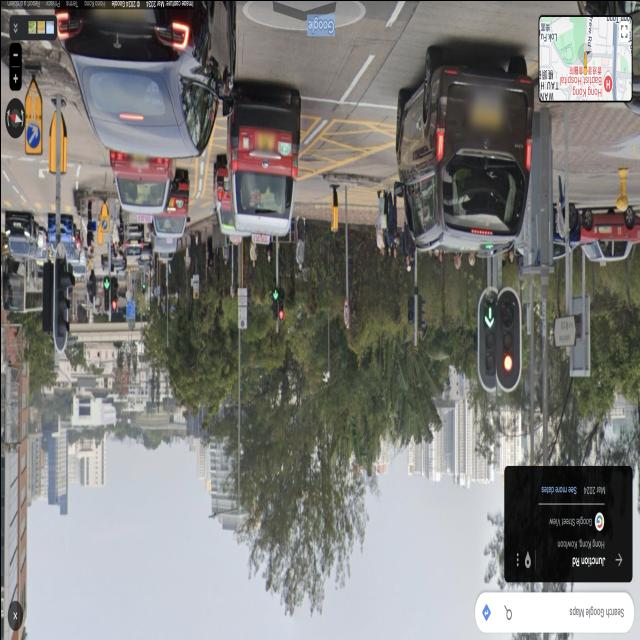Order-Sign: (26, 120, 39, 148), (237, 306, 246, 328), (236, 287, 246, 304), (342, 298, 348, 326), (192, 282, 198, 298)
Street-Direction-Sign: (552, 314, 575, 347)
